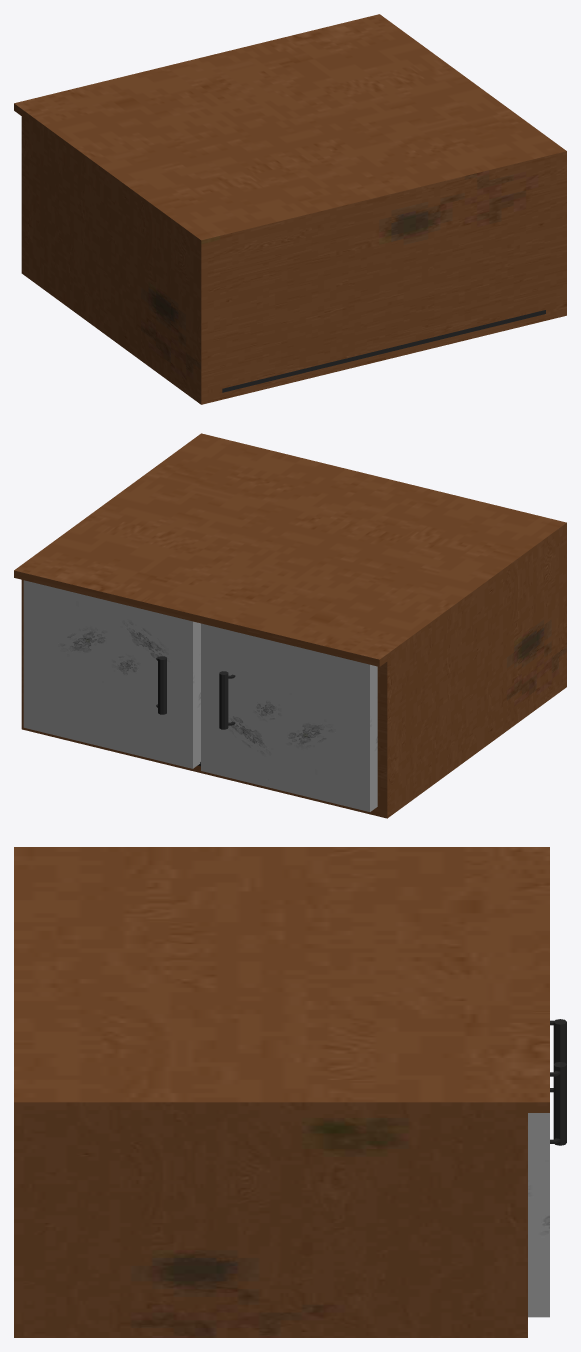
File: smallCabinet.fbx
The picture shows the model from 3 angles, top to bottom: view 1: azimuth 30°, elevation 25°; view 2: azimuth 150°, elevation 25°; view 3: azimuth 270°, elevation 25°; orthographic projection. The views are drawn at different scales.
Parts seen in each view (by area): view 1: cabinet_body, cabinet_divider; view 2: cabinet_body, cabinet_doorL, cabinet_doorR, HANDLE3, HANDLE2; view 3: cabinet_body, cabinet_doorL, HANDLE2, HANDLE3.
Boxes of the visible parts, x1,y1,x2,y2 form: cabinet_body: [14, 14, 566, 404]; cabinet_divider: [222, 310, 545, 392]; cabinet_body: [14, 433, 566, 818]; cabinet_doorL: [23, 580, 200, 768]; cabinet_doorR: [201, 623, 377, 811]; HANDLE3: [219, 671, 235, 729]; HANDLE2: [156, 656, 166, 714]; cabinet_body: [14, 847, 549, 1337]; cabinet_doorL: [528, 1113, 549, 1317]; HANDLE2: [550, 1062, 566, 1145]; HANDLE3: [550, 1019, 566, 1092].
Bounding box in the file's own units: 1.34 × 0.5776 × 1.23.
